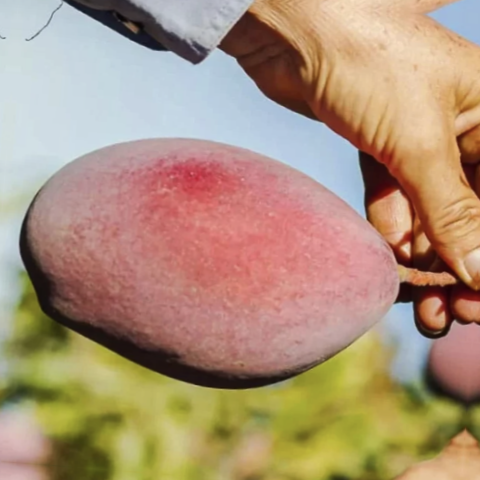mango: (2, 105, 426, 433)
